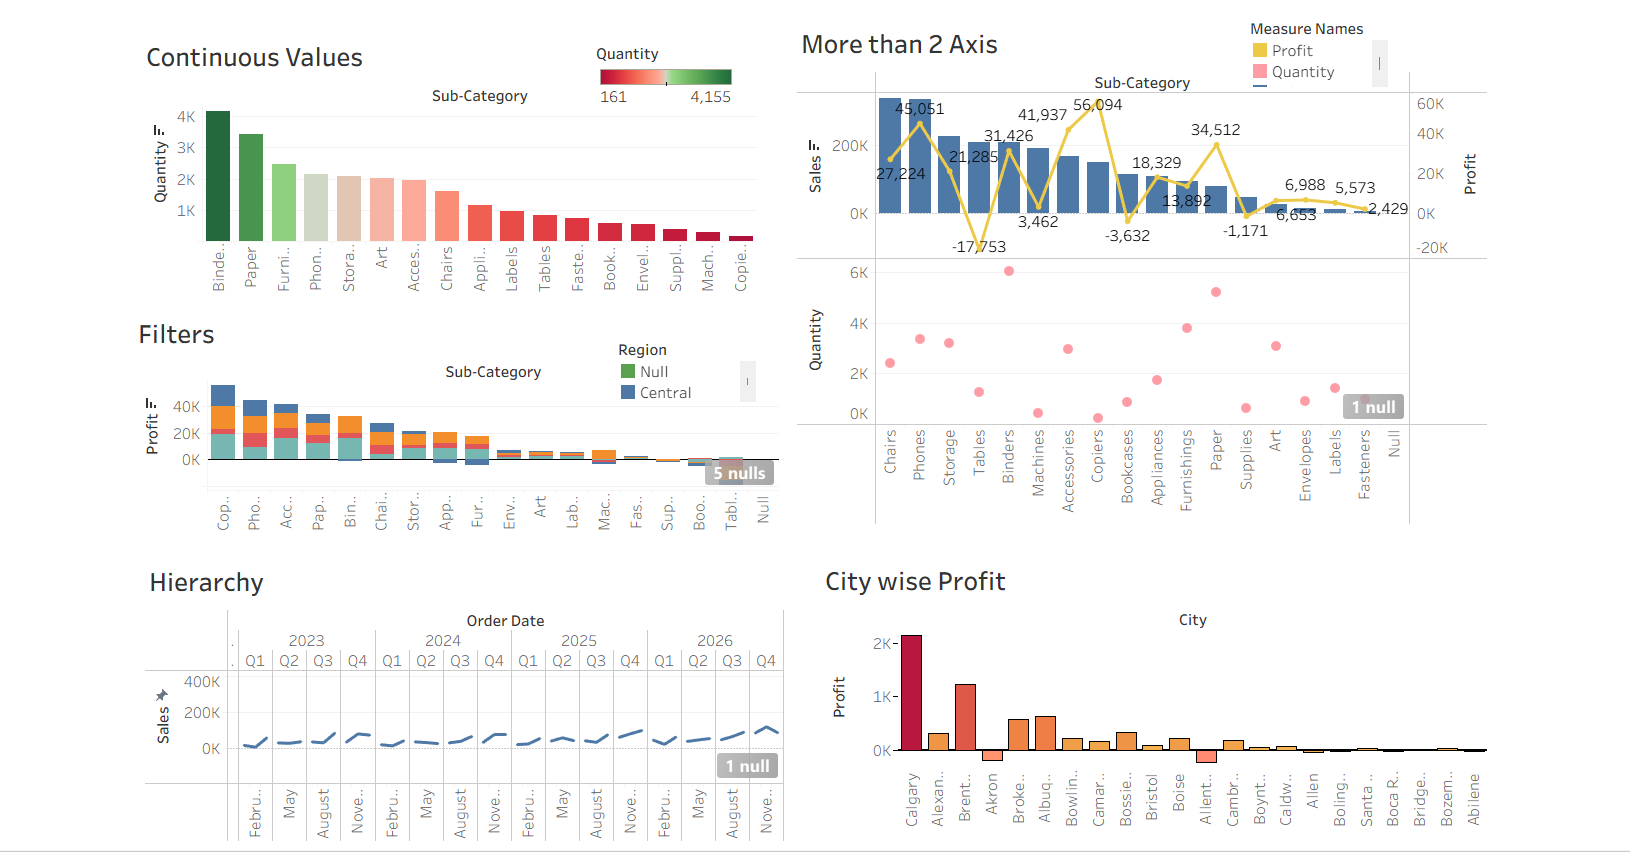

The page's visual inventory and layout, read from the dashboard file:
{"tool":"tableau","page":{"name":"Dashboard 1","canvas":[1000,1000],"units":"permille","ordinal":0},"visuals":[{"type":"legend","title":"more than 2 axis","param":"[federated.1me4bnc1nh9j001eybos31ss2gx8].[:Measure Names]","box":[757.4,22.3,84.5,81.1]},{"type":"worksheet","title":"more than 2 axis","mark":"Bar","rows":["Sales","Profit","Quantity"],"cols":["Sub-Category"],"box":[484,27,417,591.1]},{"type":"worksheet","title":"Continuous values","mark":"Automatic","rows":["Quantity"],"cols":["Sub-Category"],"box":[88.7,42.3,371.2,304.4]},{"type":"legend","title":"Continuous values","param":"[federated.1me4bnc1nh9j001eybos31ss2gx8].[sum:Quantity:qk]","box":[362.7,51.7,84.5,103.4]},{"type":"worksheet","title":"Filters","mark":"Bar","rows":["Profit"],"cols":["Sub-Category"],"box":[83.9,367.8,389.3,259.7]},{"type":"legend","title":"Filters","param":"[federated.1me4bnc1nh9j001eybos31ss2gx8].[none:Region:nk]","box":[376,399.5,84.5,74]},{"type":"worksheet","title":"City wise Profit","mark":"Automatic","rows":["Profit"],"cols":["City"],"box":[498.5,658.1,401.9,316.1]},{"type":"worksheet","title":"hirerache","mark":"Automatic","rows":["Sales"],"cols":["Order Date","Order Date","Order Date"],"box":[90.5,659.2,385.6,332.6]}]}

Visuals, with their boxes on the dashboard's canvas, which has no fixed pixel size, in thousandths of its width and height (x1, y1, x2, y2). These are canvas units, not pixel positions in the 1630x852 screenshot, which may show the page scaled, cropped or inside an application window:
"more than 2 axis" legend: <box>757,22,842,103</box>
"more than 2 axis" worksheet (Bar marks): <box>484,27,901,618</box>
"Continuous values" worksheet: <box>89,42,460,347</box>
"Continuous values" legend: <box>363,52,447,155</box>
"Filters" worksheet (Bar marks): <box>84,368,473,628</box>
"Filters" legend: <box>376,400,460,474</box>
"City wise Profit" worksheet: <box>498,658,900,974</box>
"hirerache" worksheet: <box>90,659,476,992</box>
